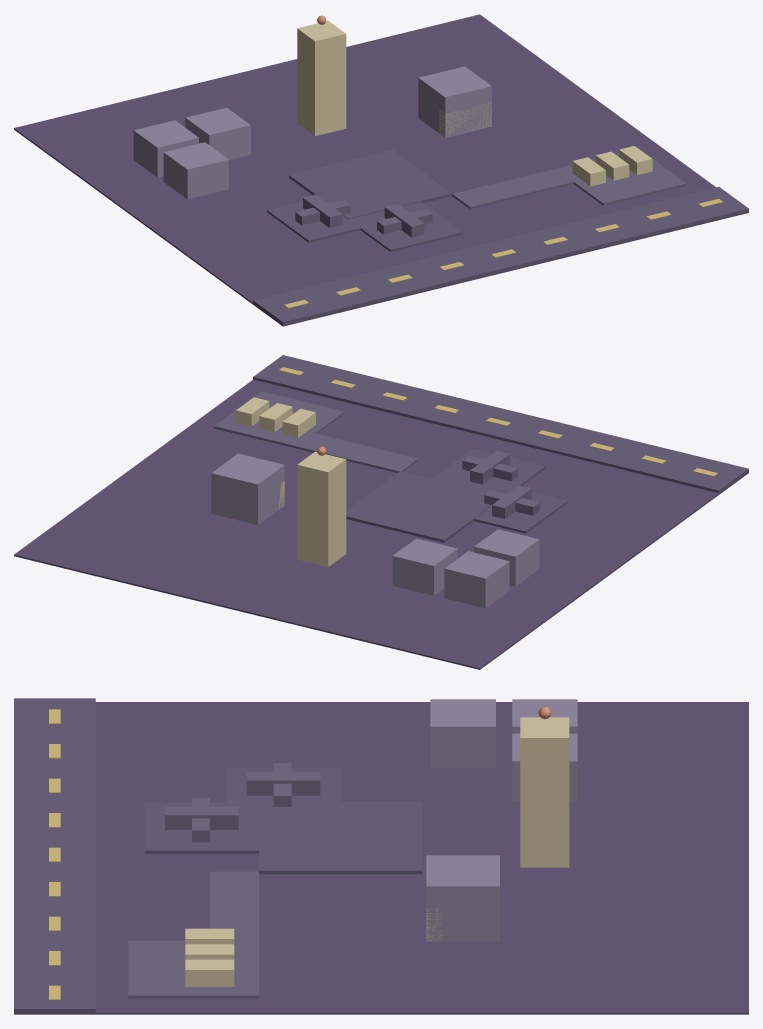
Rendered from stage_10.glb.
The picture shows the model from 3 angles, top to bottom: view 1: azimuth 30°, elevation 25°; view 2: azimuth 150°, elevation 25°; view 3: azimuth 270°, elevation 25°; orthographic projection. The views are drawn at different scales.
Parts seen in each view (by area): view 1: geometry_0; view 2: geometry_0; view 3: geometry_0.
Part boxes in pixels (x1,y1,x2,y2): geometry_0: (14,14,748,326); geometry_0: (14,355,748,669); geometry_0: (14,698,748,1014).
Bounding box in the file's own units: 9 × 2.06 × 9.
